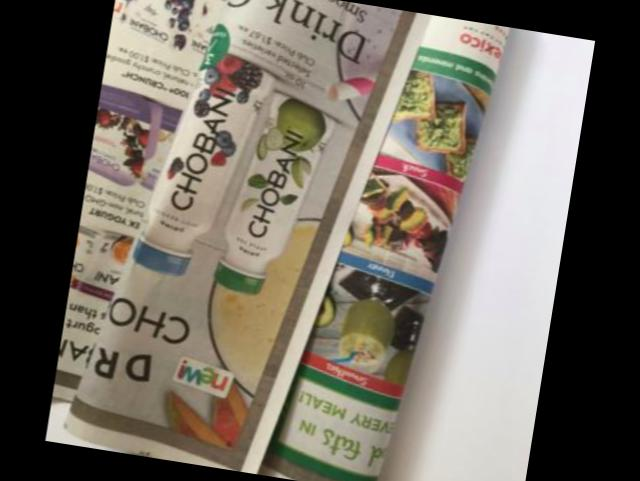cardboard paper: (53, 0, 431, 474), (257, 15, 509, 481)
